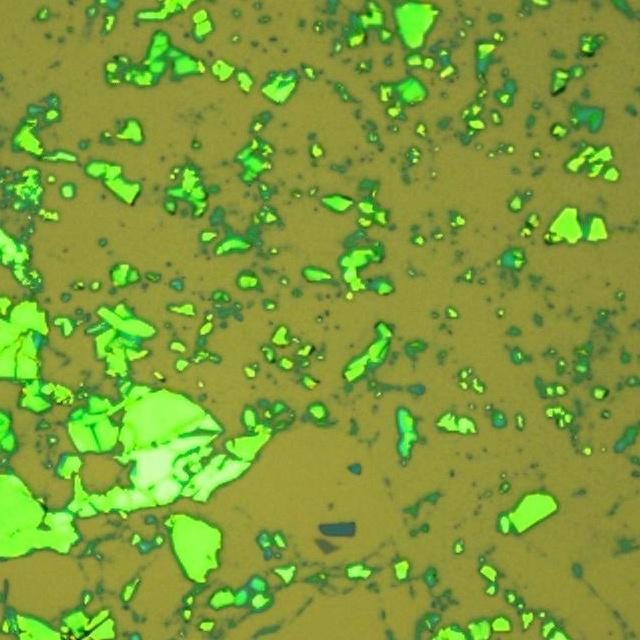monolayer-eWW4: (313, 537, 341, 555)
